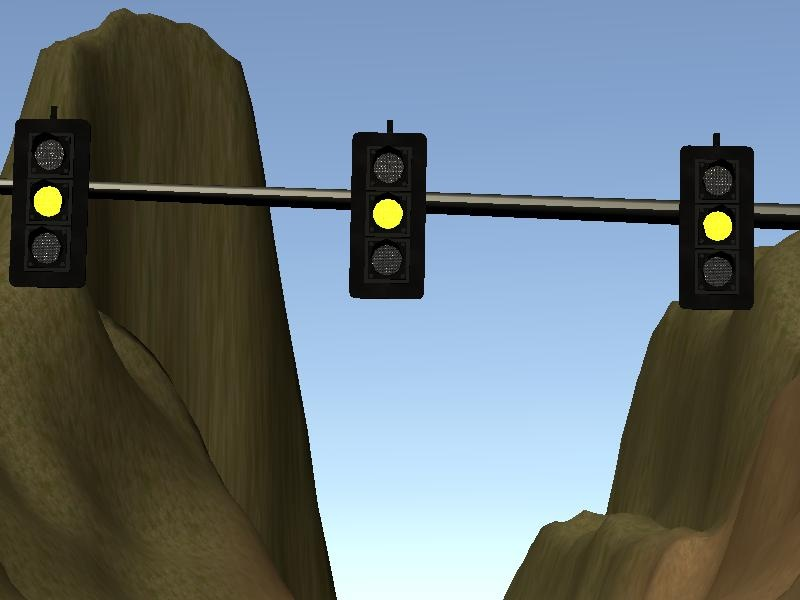yellow: (348, 126, 431, 306), (675, 141, 760, 314), (12, 117, 90, 290)
